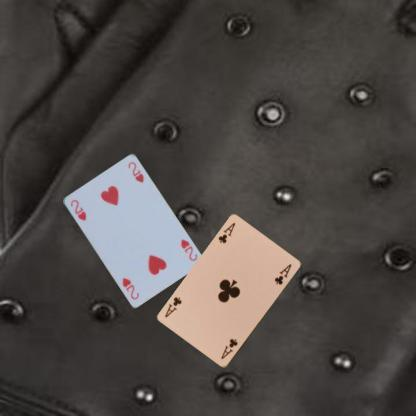2h: (178, 236, 198, 262), (68, 197, 87, 222)
Ac: (215, 220, 237, 245), (219, 336, 240, 361)
